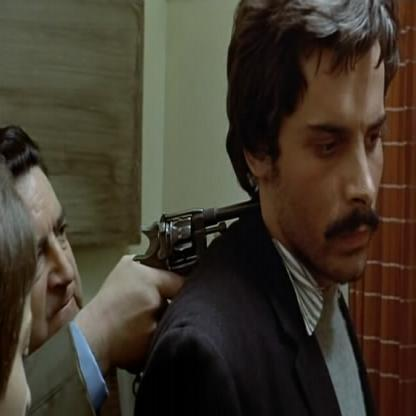gun: (126, 181, 277, 260)
